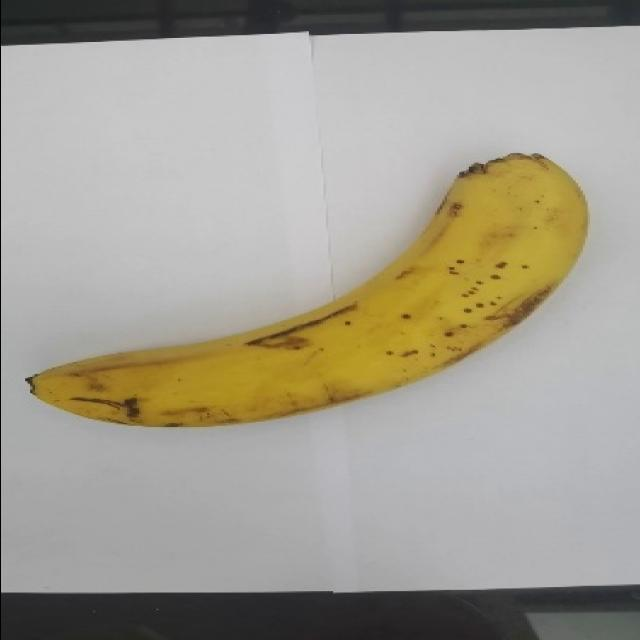Banana: (25, 151, 589, 428)
